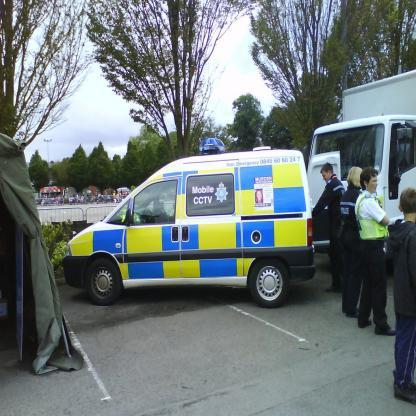Ambulance - v1 Ambulance last generate: (60, 133, 344, 310)
